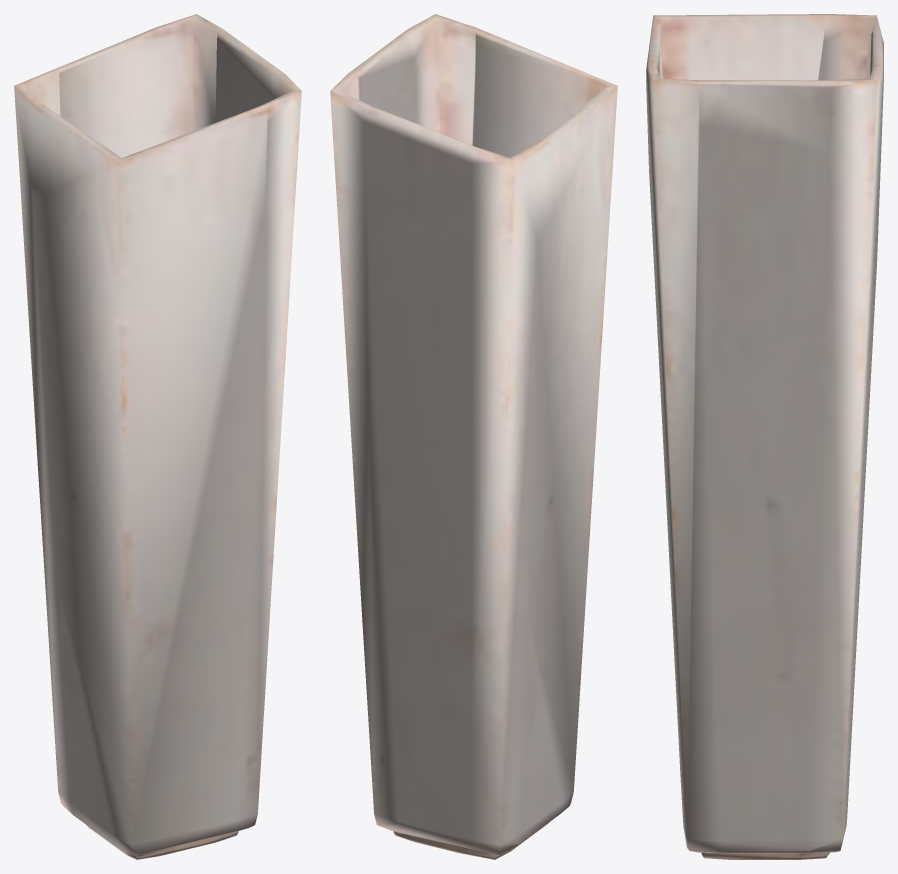
The model's file is urn.glb.
The picture shows the model from 3 angles, left to right: view 1: azimuth 30°, elevation 25°; view 2: azimuth 150°, elevation 25°; view 3: azimuth 270°, elevation 25°; orthographic projection. The views are drawn at different scales.
Visible parts, largest first — view 1: ceramic_vase_03; view 2: ceramic_vase_03; view 3: ceramic_vase_03.
Boxes of the visible parts, x1,y1,x2,y2 form: ceramic_vase_03: (14,14,301,859); ceramic_vase_03: (330,14,617,859); ceramic_vase_03: (646,14,883,859).
Size of the model in its own units: 0.1107 by 0.4143 by 0.1116.
1 material, 1 textured.
